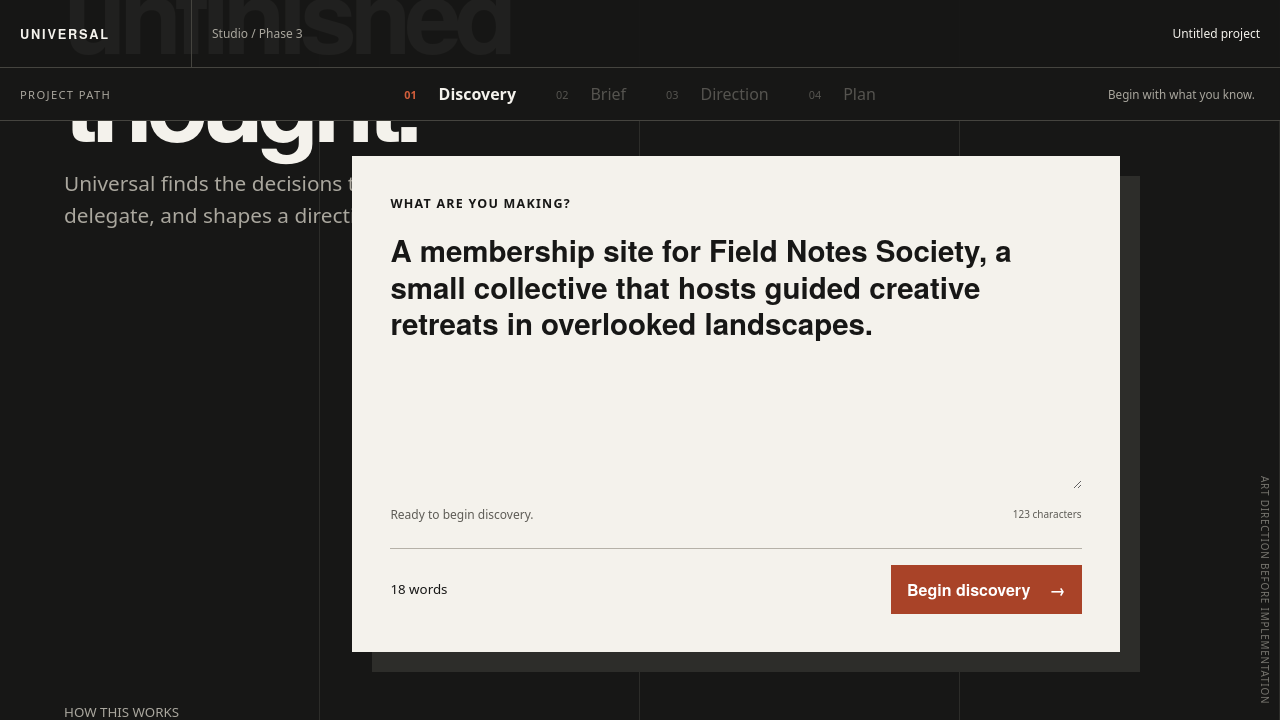
Test: stage 4: direction review and Design Plan v2 › presents the recommended direction with its rationale, risks, and alternatives
(page scrolled)
Replace the text in the text box labelled "What are you making?" with "A membership site for a small collective that runs guided creative retreats in overlooked coastal towns.": (736, 361) [390,232,1082,489]
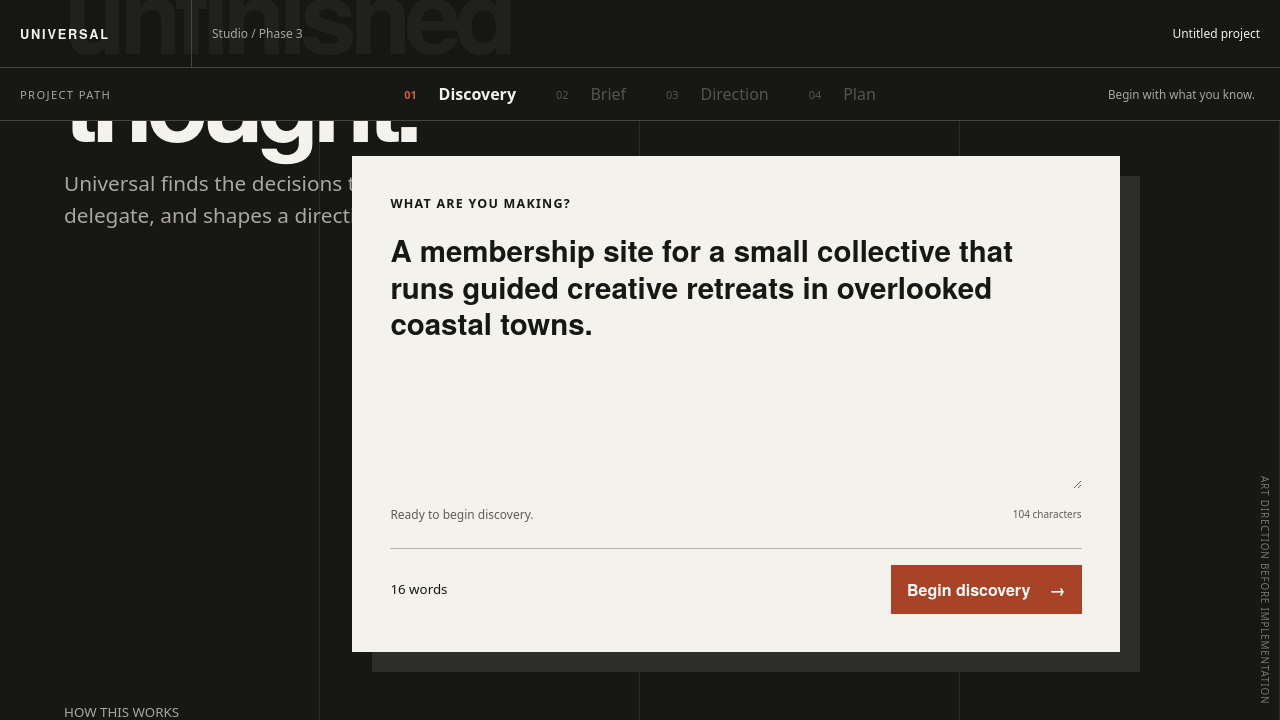
Click the button "Begin discovery →": (986, 589) [891,565,1082,614]
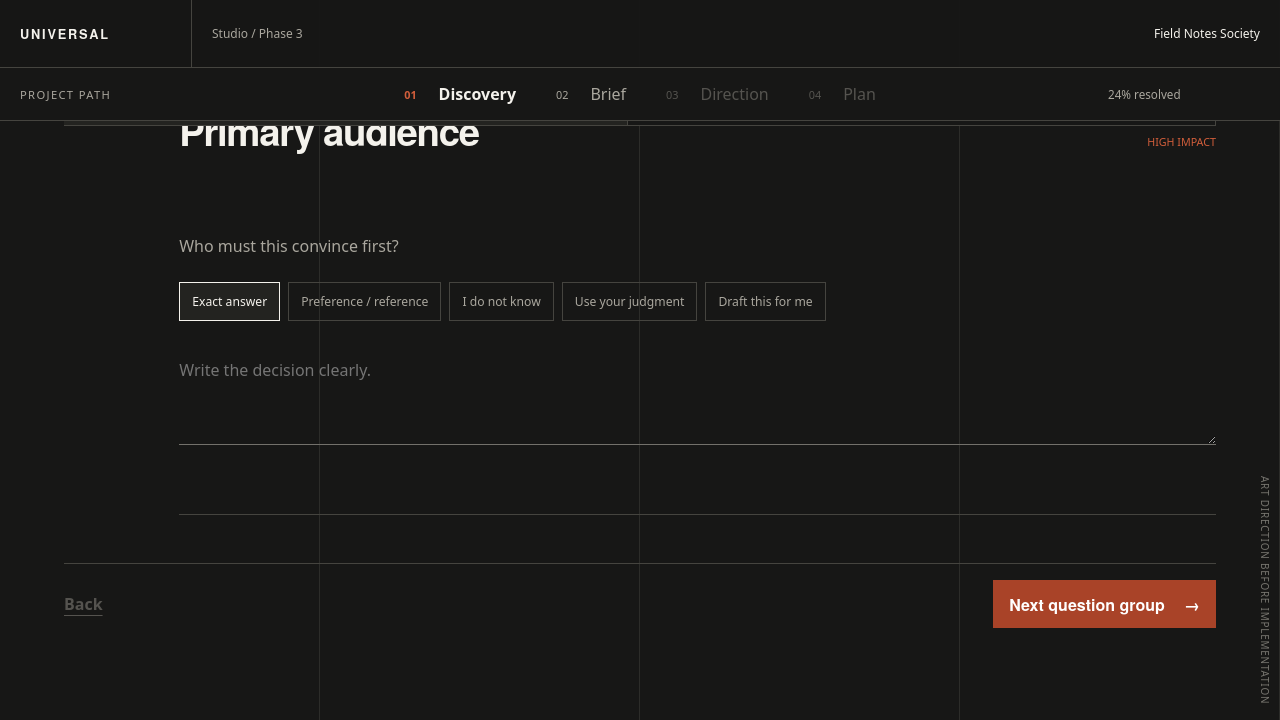
Click the button "Next question group →": (1105, 604) [993,580,1216,628]
(page scrolled)
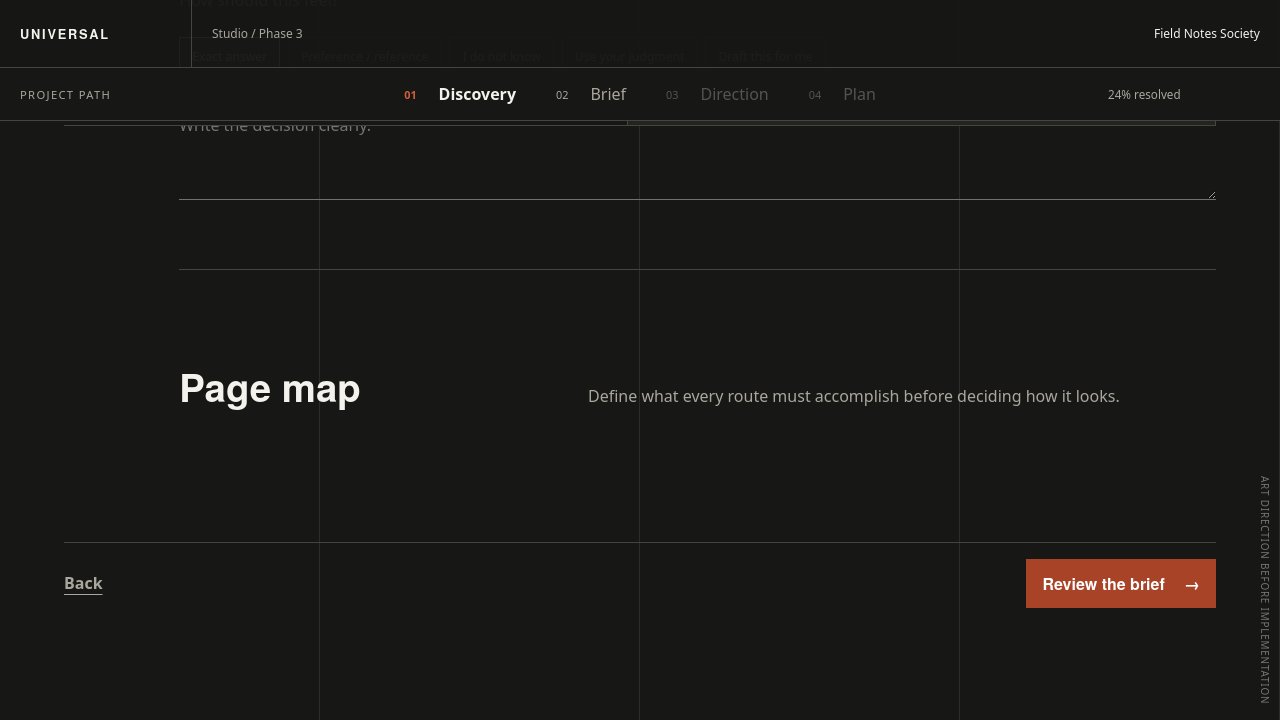
Click the button "Review the brief →": (1121, 583) [1026,559,1216,608]
(page scrolled)
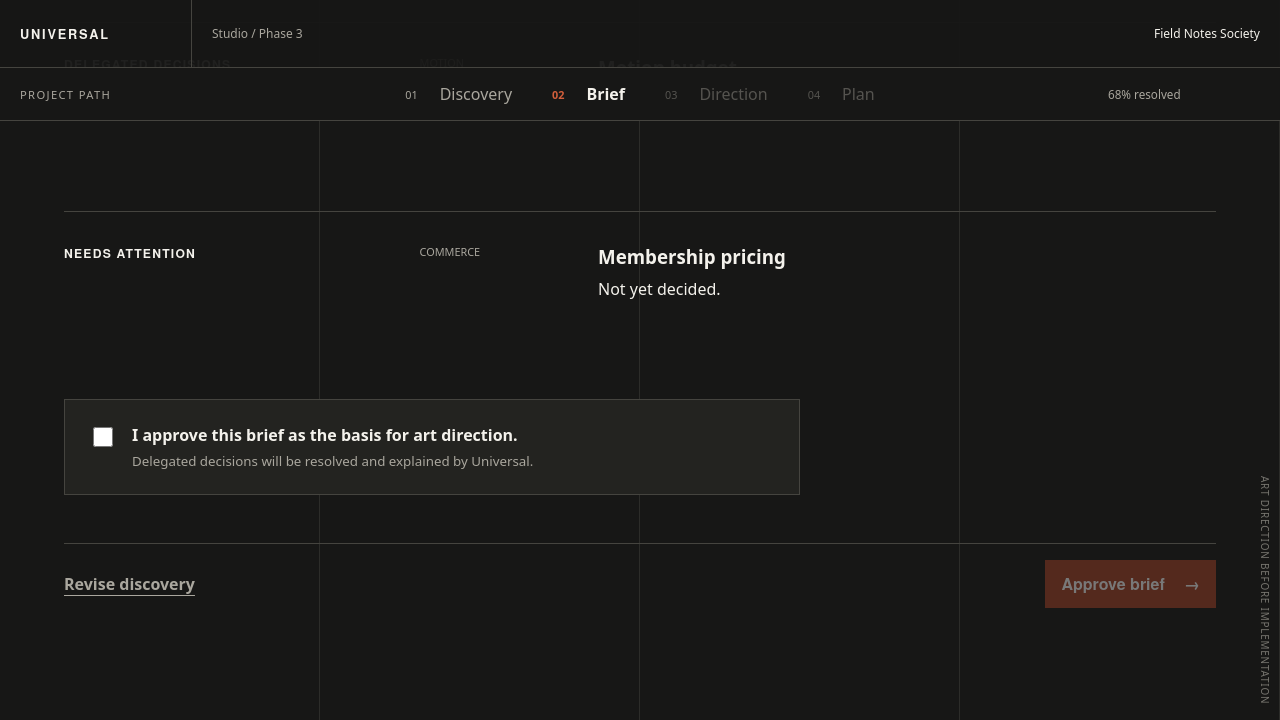
Click the checkbox: (103, 437) [93,427,113,447]
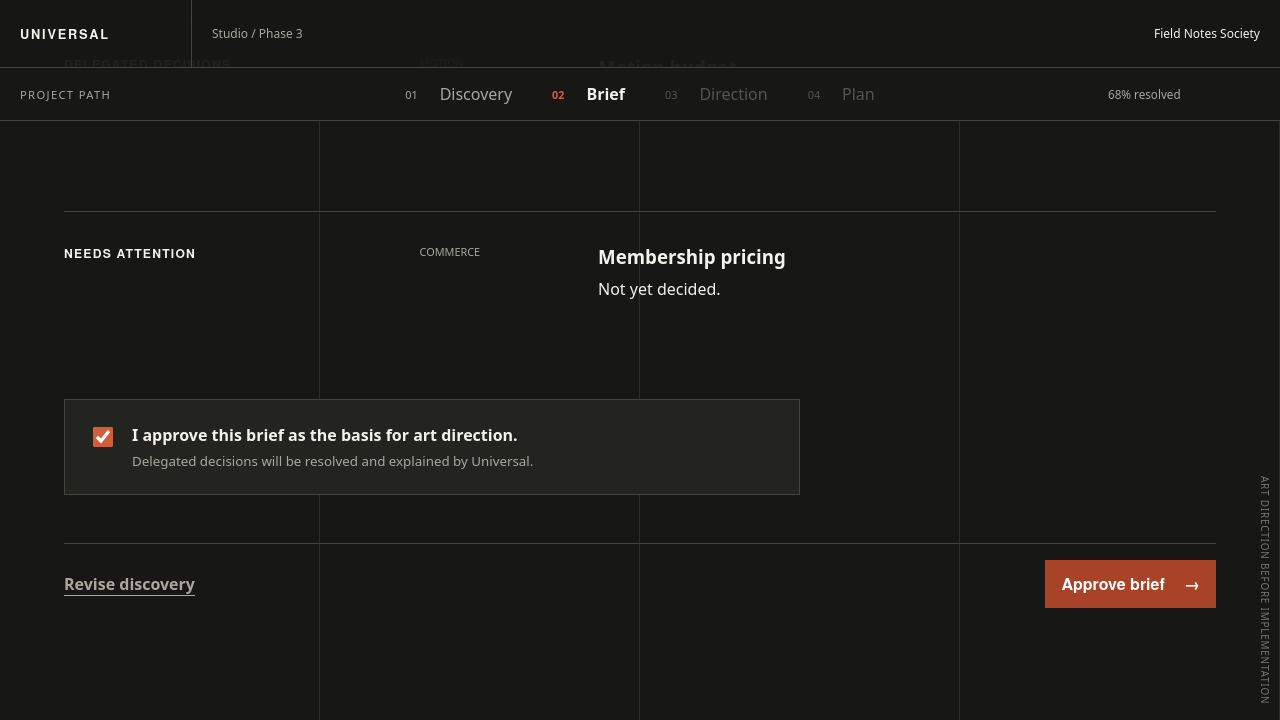
Click the button "Approve brief →": (1131, 584) [1045,560,1216,608]
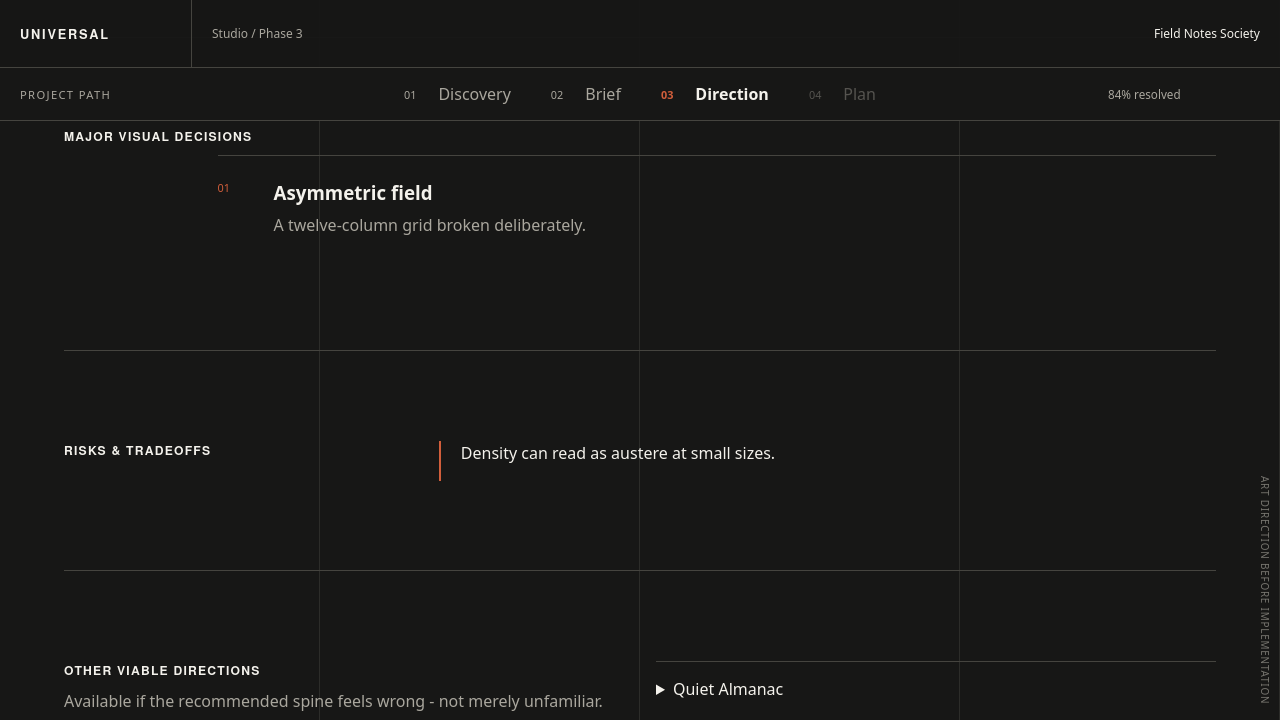
Expected: the list item "Density can read as austere at small sizes." is shown, [439,441,1216,481]
Expected: the heading "Quiet Almanac" is shown, [673,678,783,700]
